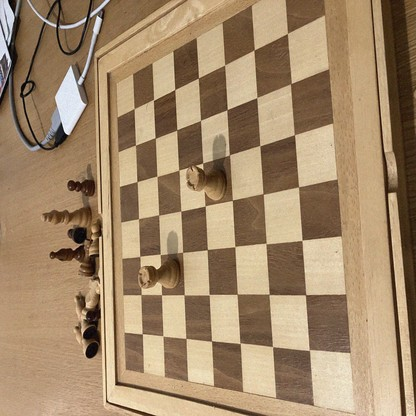bishop_black: (50, 247, 87, 262)
king_white: (41, 206, 93, 228)
pawn_black: (67, 180, 95, 196)
rock_white: (138, 255, 180, 288), (187, 165, 226, 200)
